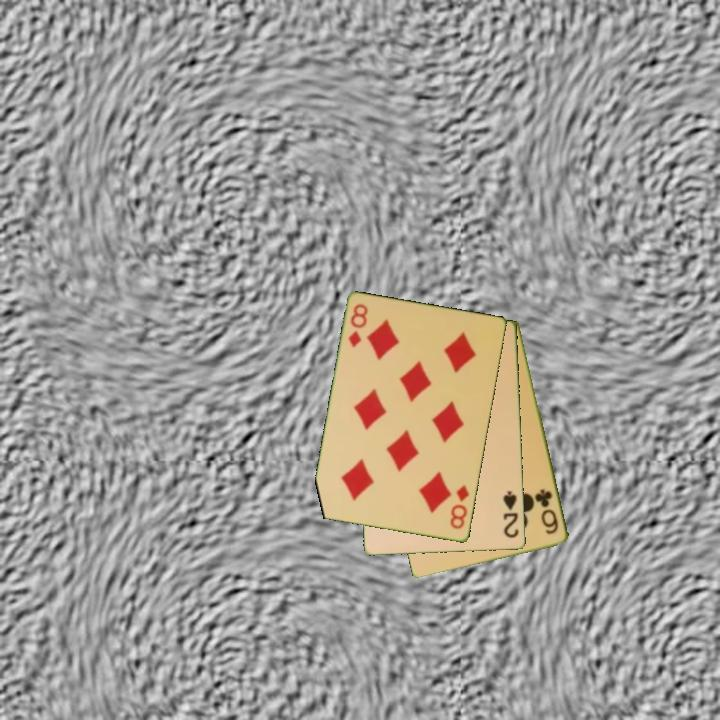2s: (500, 488, 522, 541)
6c: (533, 486, 562, 537)
8d: (345, 301, 371, 351), (447, 482, 472, 532)
